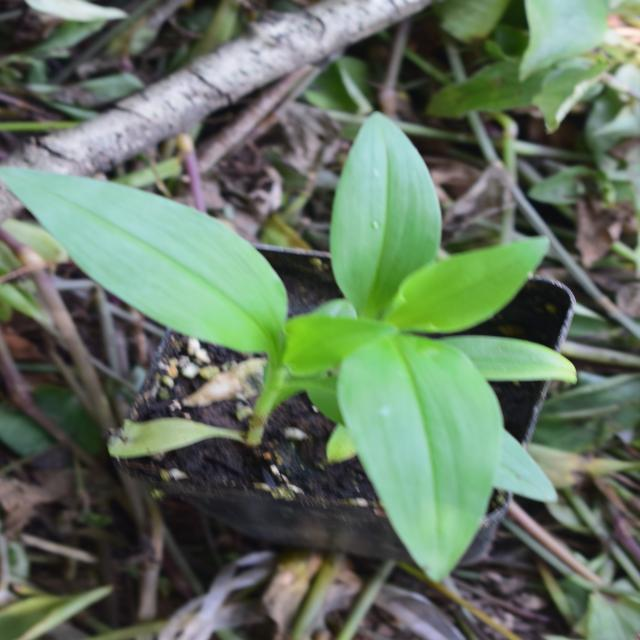Common Dayflower: (75, 279, 531, 596), (289, 47, 501, 280)
